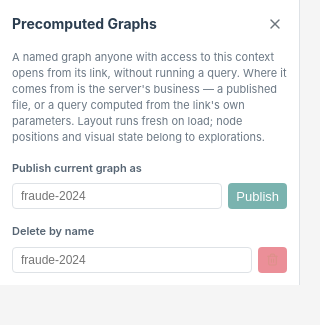
Scenario: PrecomputedGraphPanel › deleting by name › reports a delete failure
Type "c1" into the field with test id "precomputed-graph-delete-input" at (132, 260), box [12,247,252,273]
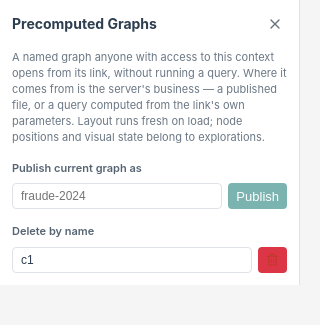
Click the button with test id "precomputed-graph-delete-button" at (272, 260), box [258,247,287,273]
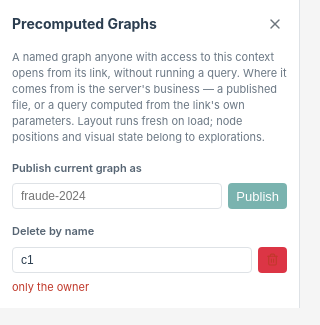
Expected: the text with test id "precomputed-graph-delete-error" reads "only the owner", [12,280,89,294]
